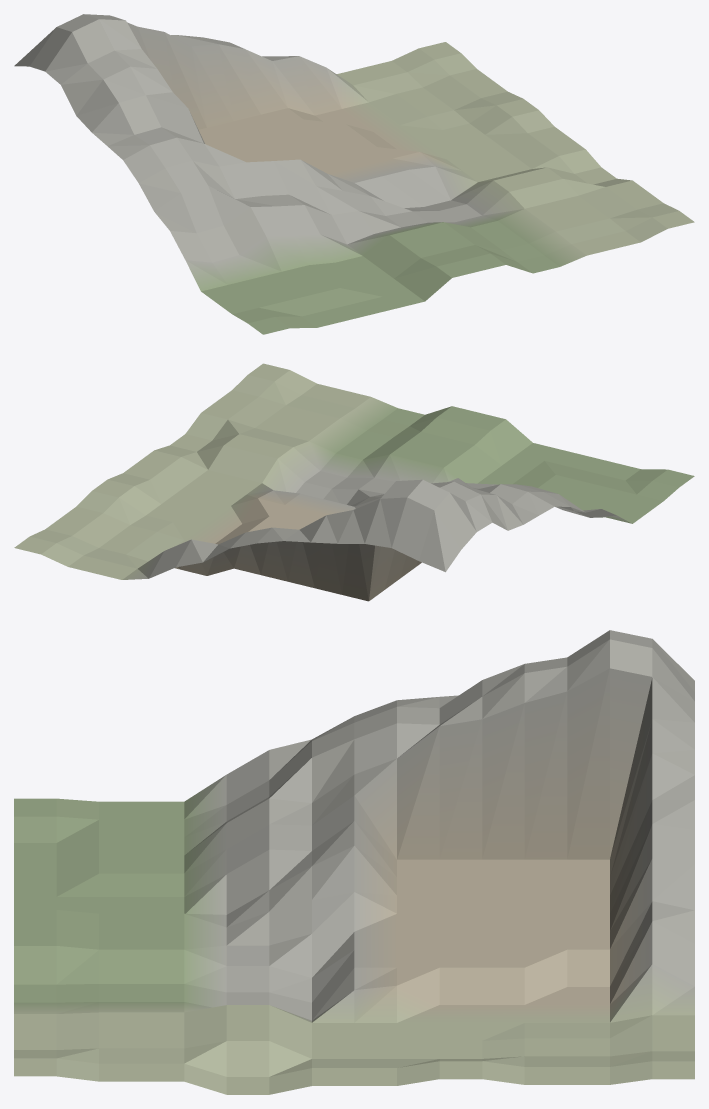
3 views of the same model, one above another, from view 1: azimuth 30°, elevation 25°; view 2: azimuth 150°, elevation 25°; view 3: azimuth 270°, elevation 25° (orthographic). The views are drawn at different scales.
Bounding box in the file's own units: 32 × 11.38 × 32.
